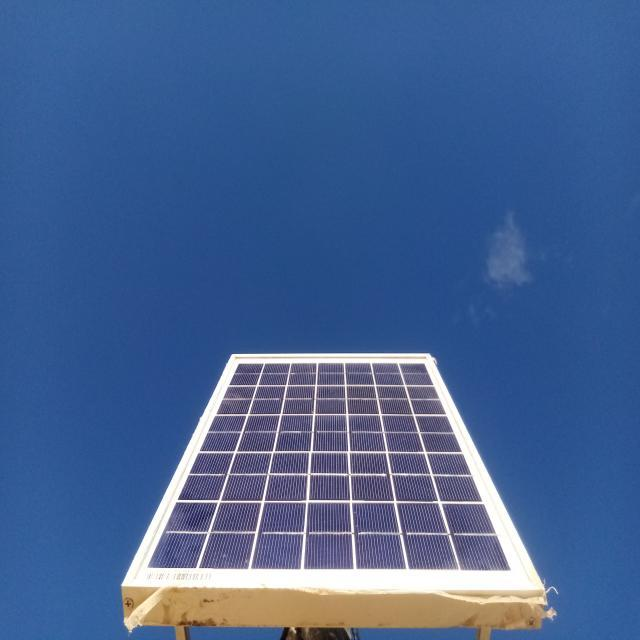no faulty: (121, 353, 545, 592)
